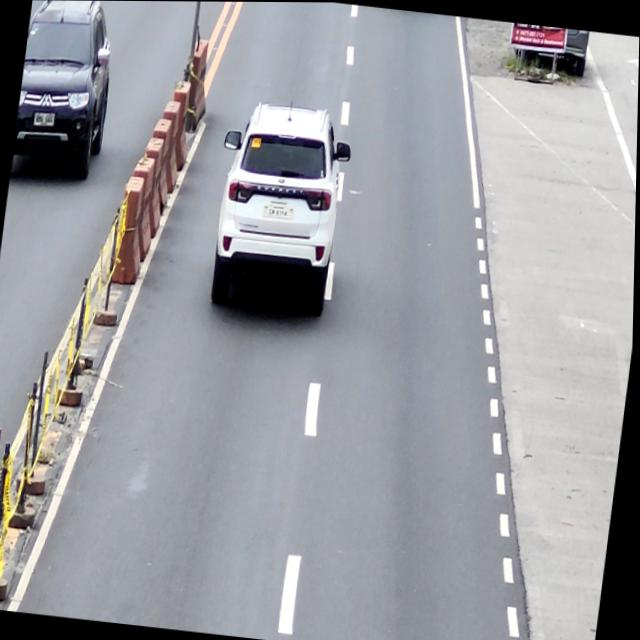Car: (205, 98, 356, 317)
License-Plate: (267, 202, 291, 218)
